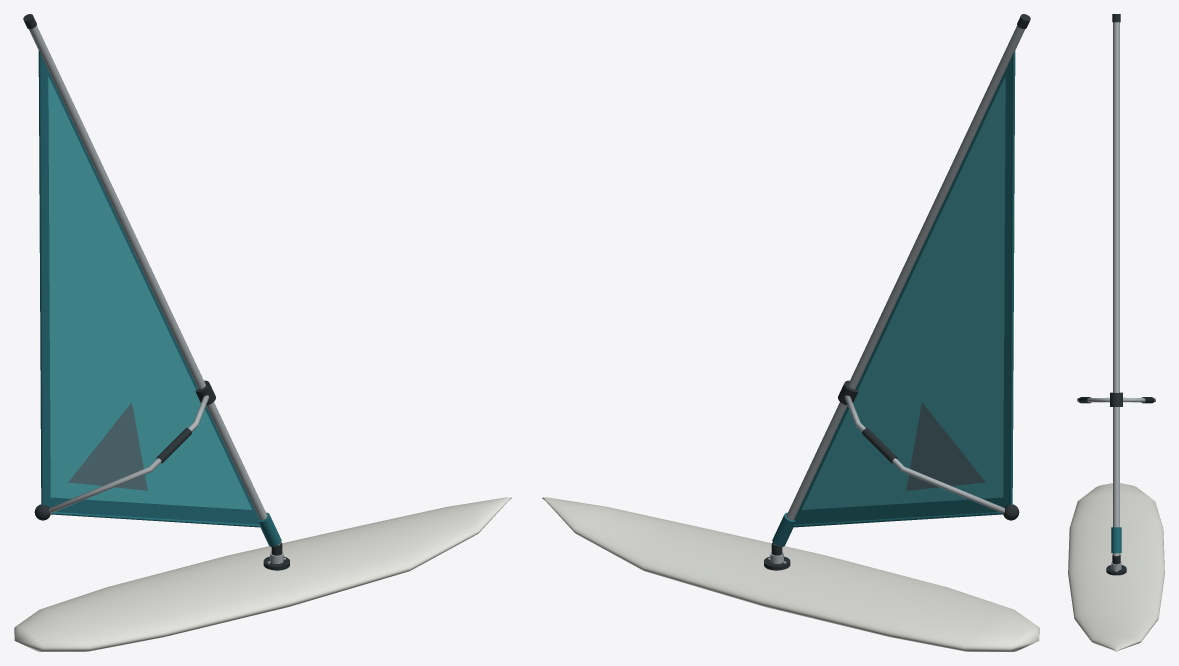
3 renders of one model, left to right at view 1: azimuth 30°, elevation 25°; view 2: azimuth 150°, elevation 25°; view 3: azimuth 270°, elevation 25°, orthographic. The views are drawn at different scales.
Parts seen in each view (by area): view 1: Closed thickness partitioned sail and opaque window, Original closed rocker windsurf board, Long diagonal mast, Sail perimeter bead 0, Original bowed boom arm -1; view 2: Closed thickness partitioned sail and opaque window, Original closed rocker windsurf board, Long diagonal mast, Sail perimeter bead 0, Original bowed boom arm 1; view 3: Original closed rocker windsurf board, Long diagonal mast, Lower mast retaining sleeve, Boom mast attachment collar.
Part boxes in pixels (<box>): Closed thickness partitioned sail and opaque window: <box>42,57,259,524</box>; Original closed rocker windsurf board: <box>14,497,511,651</box>; Long diagonal mast: <box>28,25,280,545</box>; Sail perimeter bead 0: <box>38,50,44,505</box>; Original bowed boom arm -1: <box>49,395,209,513</box>; Closed thickness partitioned sail and opaque window: <box>794,57,1011,524</box>; Original closed rocker windsurf board: <box>542,497,1039,651</box>; Long diagonal mast: <box>773,25,1025,545</box>; Sail perimeter bead 0: <box>1009,50,1015,505</box>; Original bowed boom arm 1: <box>844,395,1004,513</box>; Original closed rocker windsurf board: <box>1068,483,1164,651</box>; Long diagonal mast: <box>1113,22,1119,556</box>; Lower mast retaining sleeve: <box>1111,527,1121,553</box>; Boom mast attachment collar: <box>1110,392,1122,406</box>.
Bounding box in the file's own units: 281 × 342 × 62.
